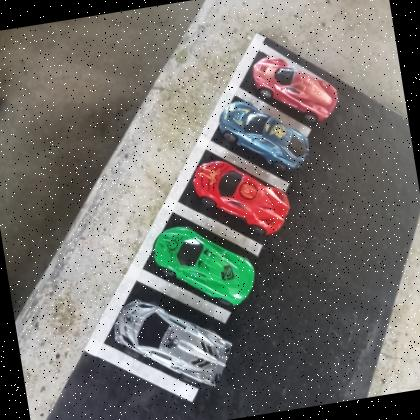Car: (110, 285, 240, 401), (150, 215, 260, 318), (191, 148, 296, 245), (215, 90, 314, 182), (251, 47, 342, 132)
